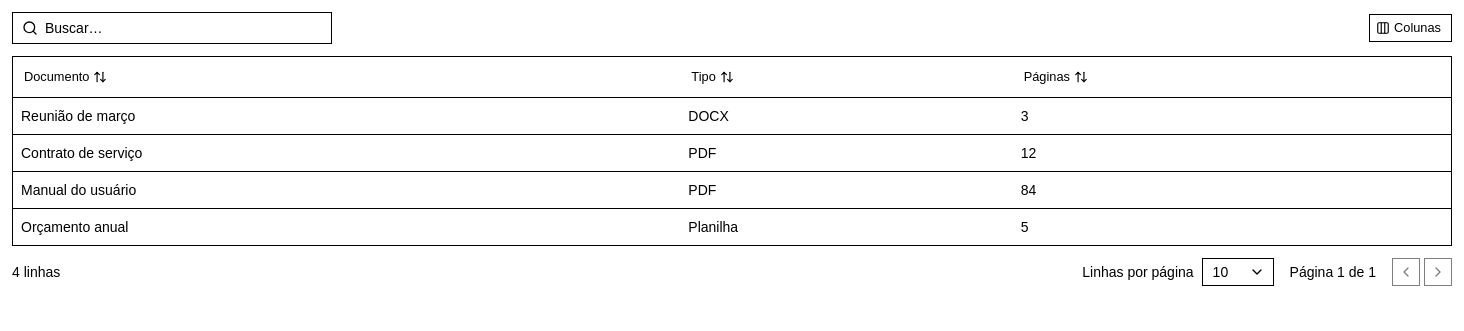
it: DataTable, modo client › busca sem resultado mostra o vazio e limpar filtros restaura as linhas
The image size is (1464, 331).
Later steps or results of the test are not shown.
Type "zeppelin" into the search field. click: {"x": 172, "y": 28}
box: [12, 12, 332, 44]
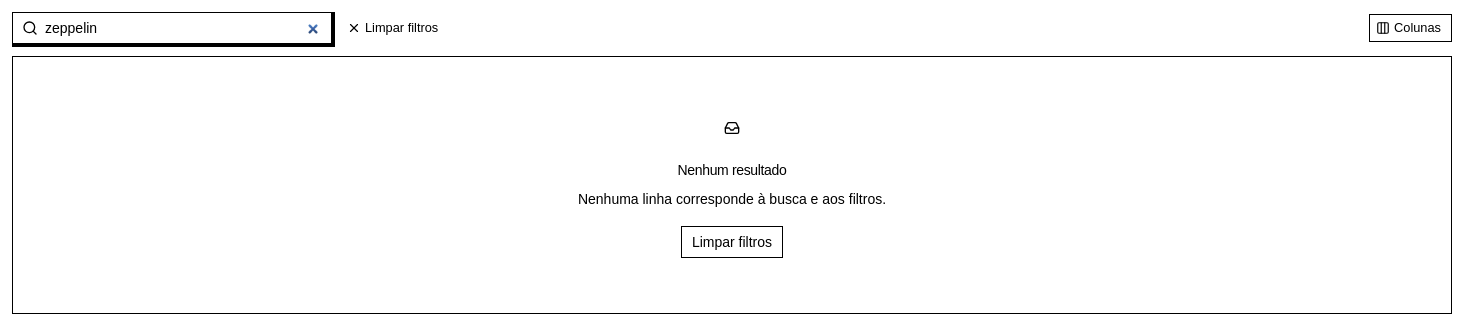
Now the heading "Nenhum resultado" is shown, box [678, 160, 786, 180]
